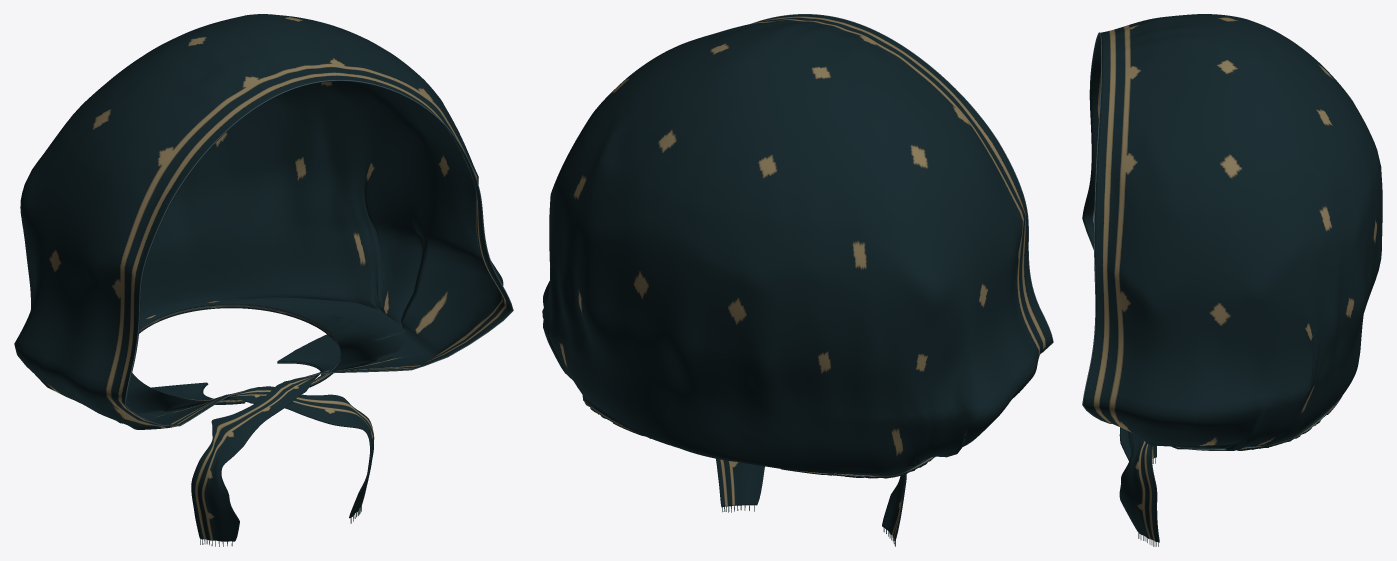
Rendered from Feminine-curls-strappy-pashmina249-headgear.glb.
The picture shows the model from 3 angles, left to right: view 1: azimuth 30°, elevation 25°; view 2: azimuth 150°, elevation 25°; view 3: azimuth 270°, elevation 25°; orthographic projection. The views are drawn at different scales.
Parts seen in each view (by area): view 1: 226 headgear / Headwear / continuous woven pashmina239, 226 headgear / Headwear / face edge239; view 2: 226 headgear / Headwear / continuous woven pashmina239, 226 headgear / Headwear / face edge239; view 3: 226 headgear / Headwear / continuous woven pashmina239, 226 headgear / Headwear / face edge239.
Boxes of the visible parts, left/top/right/bottom form: 226 headgear / Headwear / continuous woven pashmina239: left=14, top=14, right=512, bottom=541; 226 headgear / Headwear / face edge239: left=124, top=80, right=513, bottom=426; 226 headgear / Headwear / continuous woven pashmina239: left=542, top=14, right=1052, bottom=540; 226 headgear / Headwear / face edge239: left=752, top=14, right=1053, bottom=353; 226 headgear / Headwear / continuous woven pashmina239: left=1082, top=14, right=1382, bottom=542; 226 headgear / Headwear / face edge239: left=1082, top=32, right=1111, bottom=423.
Size of the model in its own units: 1.35 by 1.41 by 0.8046.
Materials: 3 (1 with a texture image).
